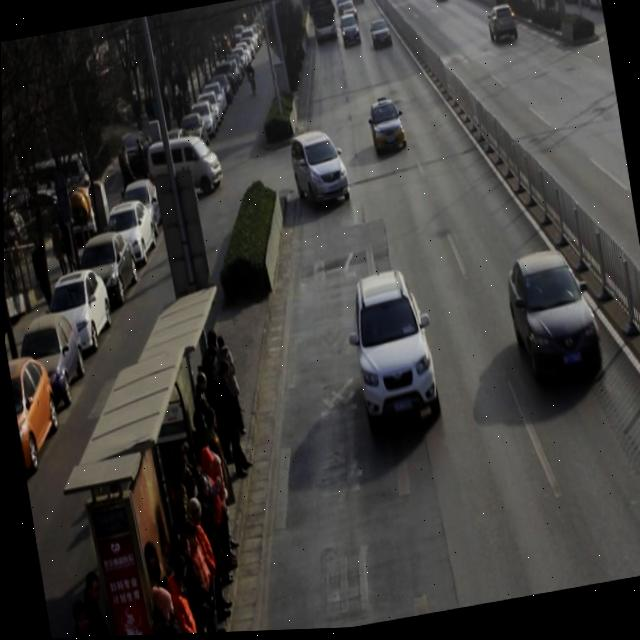car: (344, 269, 441, 439), (502, 245, 605, 395), (287, 126, 351, 214), (367, 98, 407, 158), (485, 4, 520, 50), (368, 18, 393, 53)
